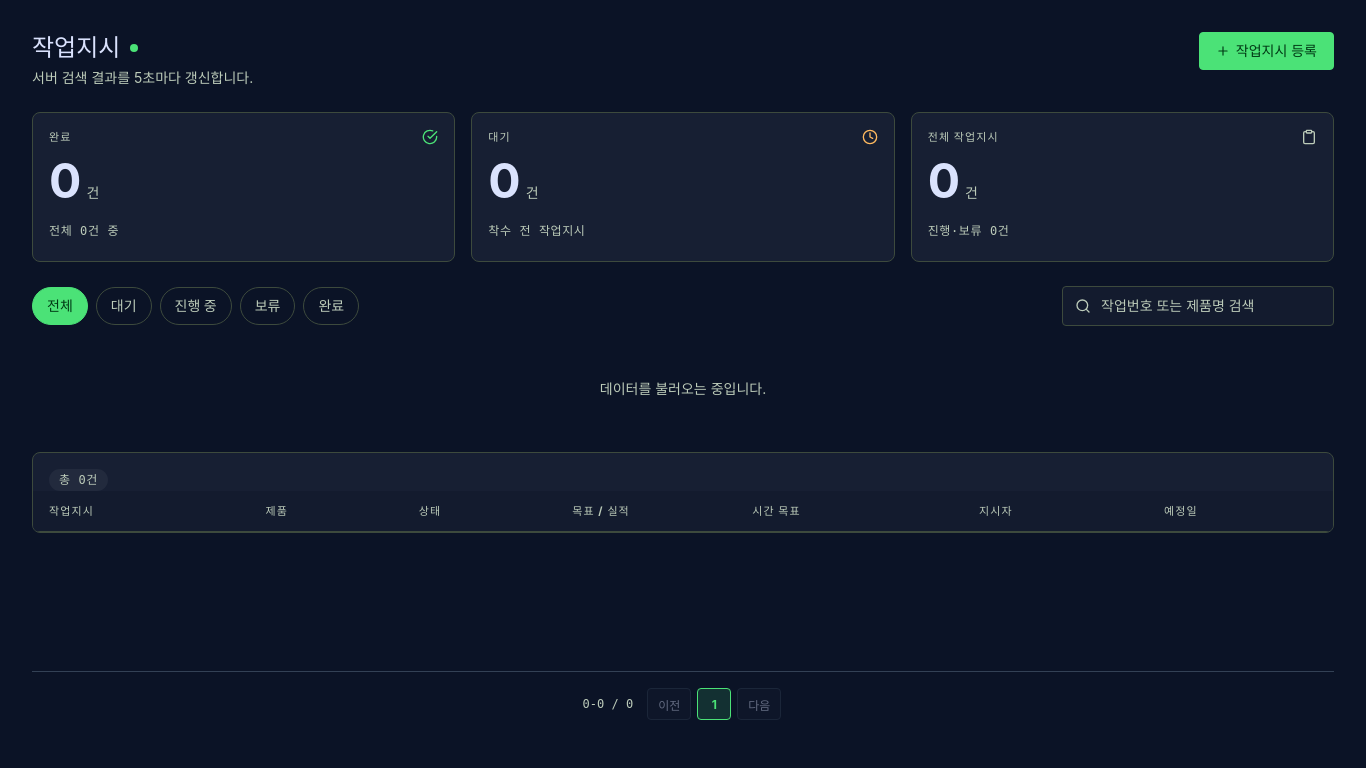
Test: 제품을 서버에서 검색하고 검색 결과를 선택한다
Click the button "작업지시 등록": (1266,51) [1199,32,1334,70]
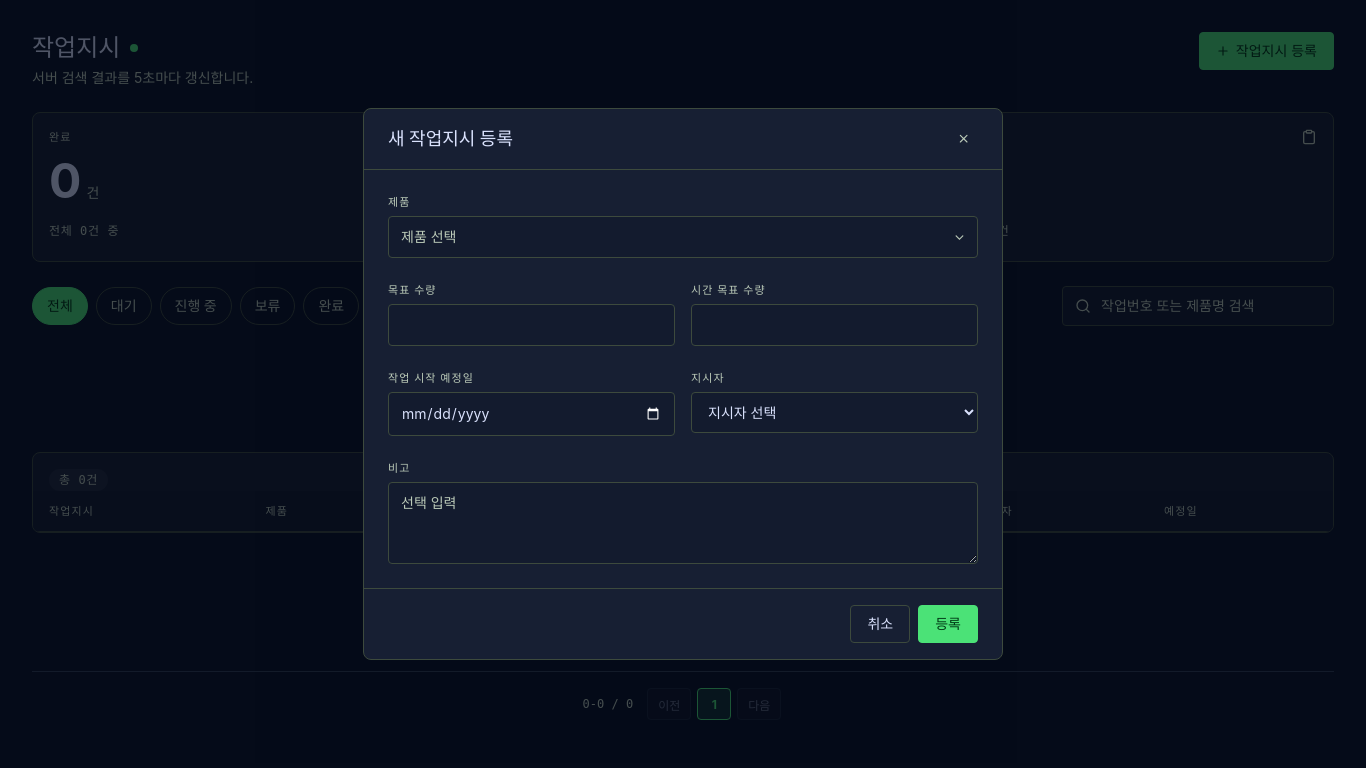
Click the button "제품 선택": (429,236) [388,216,978,258]
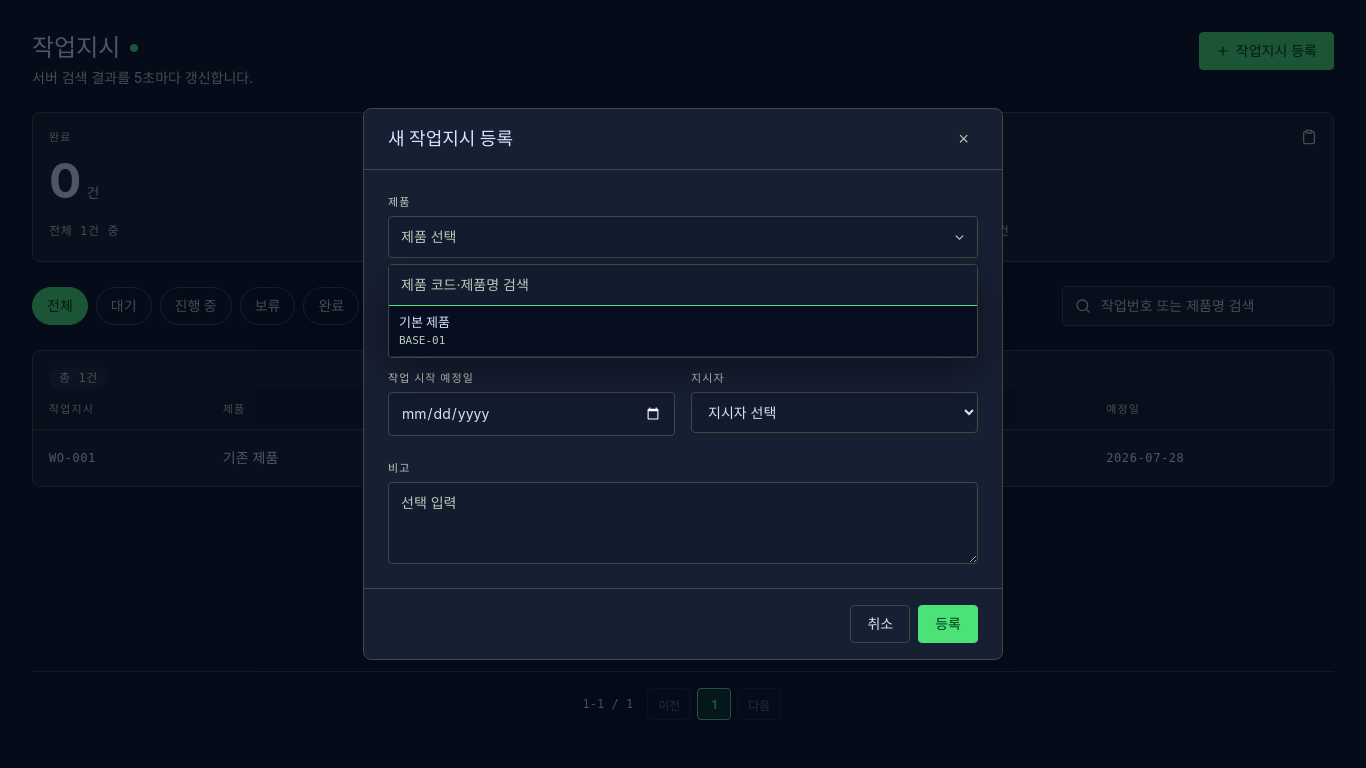
Now the option "기본 제품 BASE-01" is shown, box [389,306,977,357]
In the search field named "작업지시 제품 검색": (683,286) [389,265,977,306], type "gear"
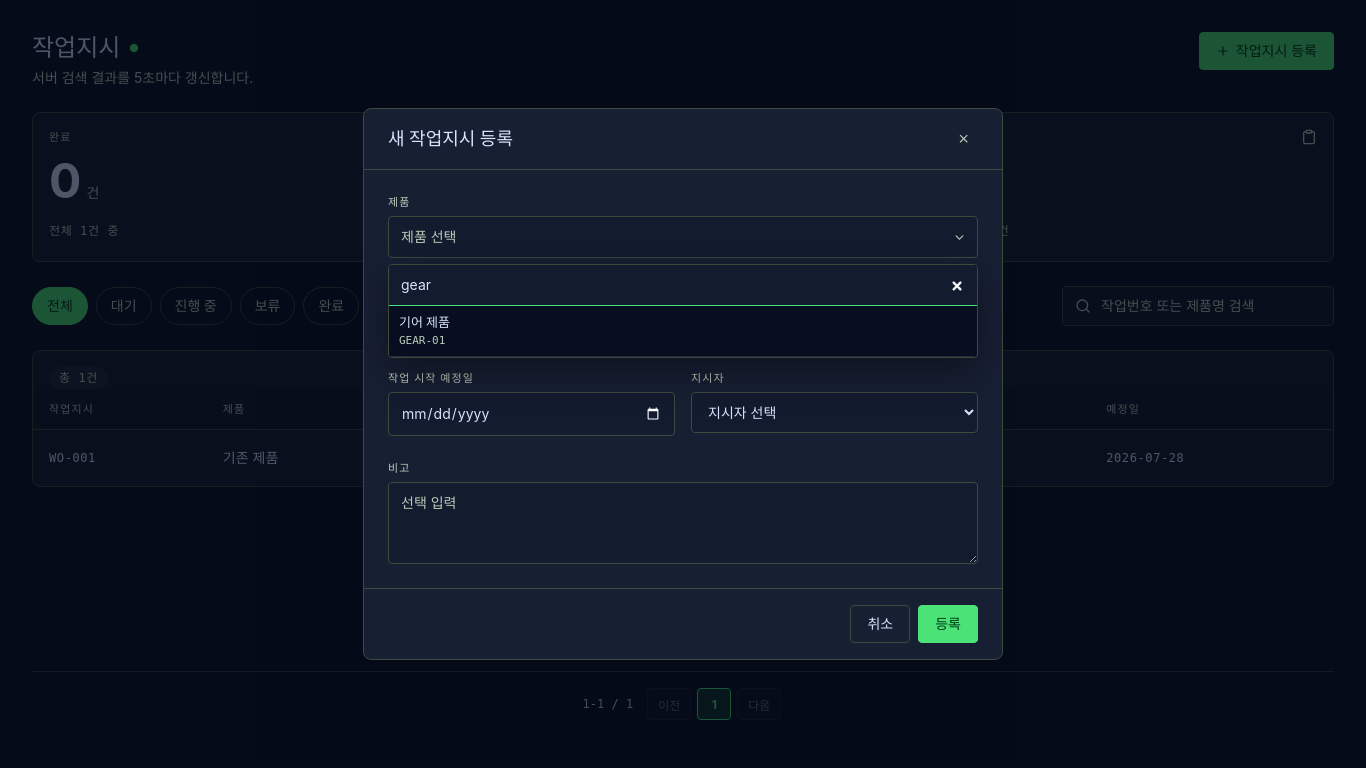
Click the option "기어 제품 GEAR-01": (424,322) [389,306,977,357]
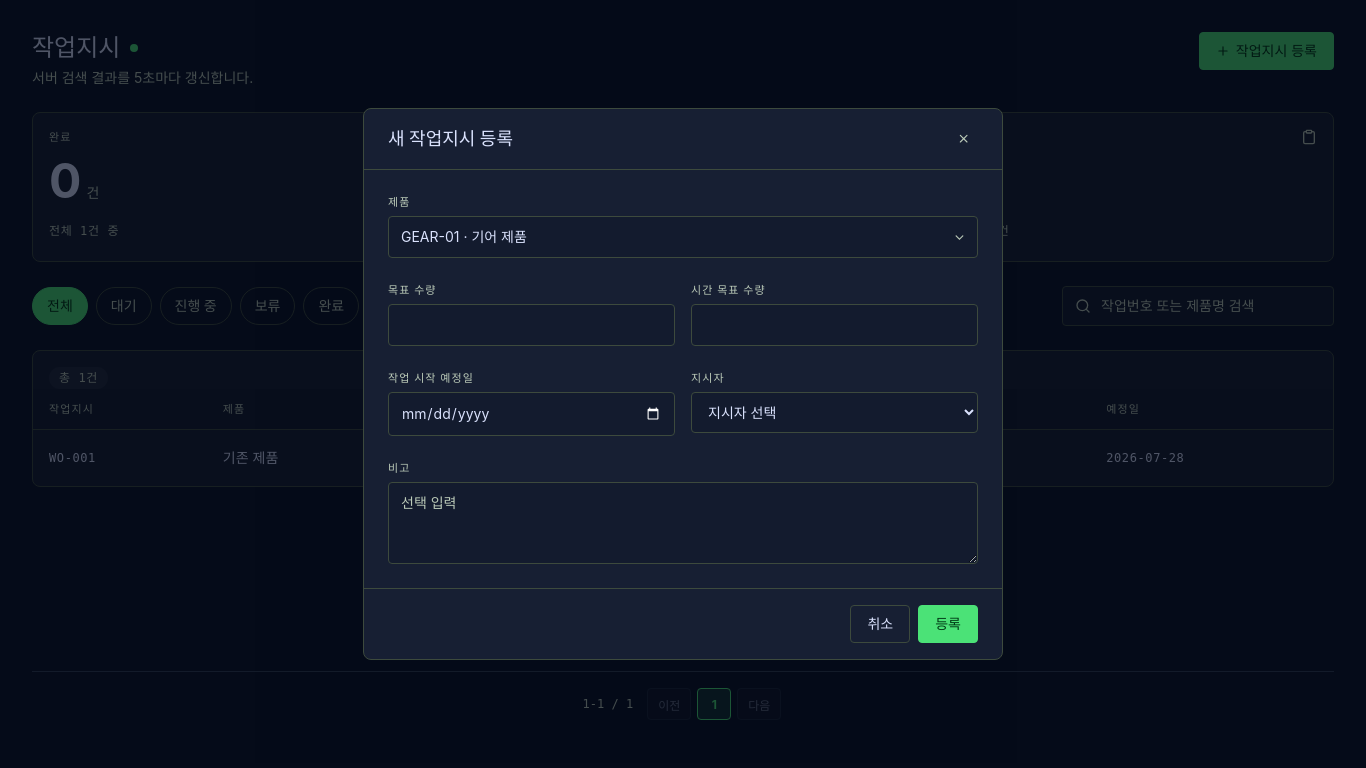
Now the element named "productId" holds "22", box [388,194,978,258]
Now the button "GEAR-01 · 기어 제품" is shown, box [388,216,978,258]
